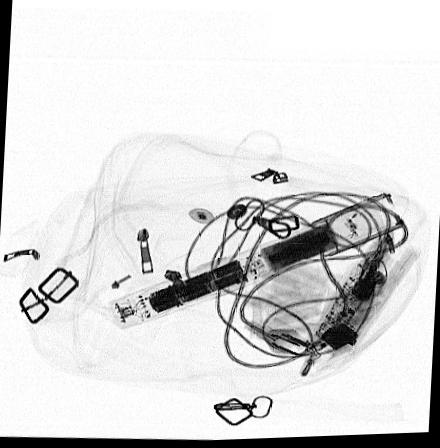Baton: (106, 194, 403, 332)
